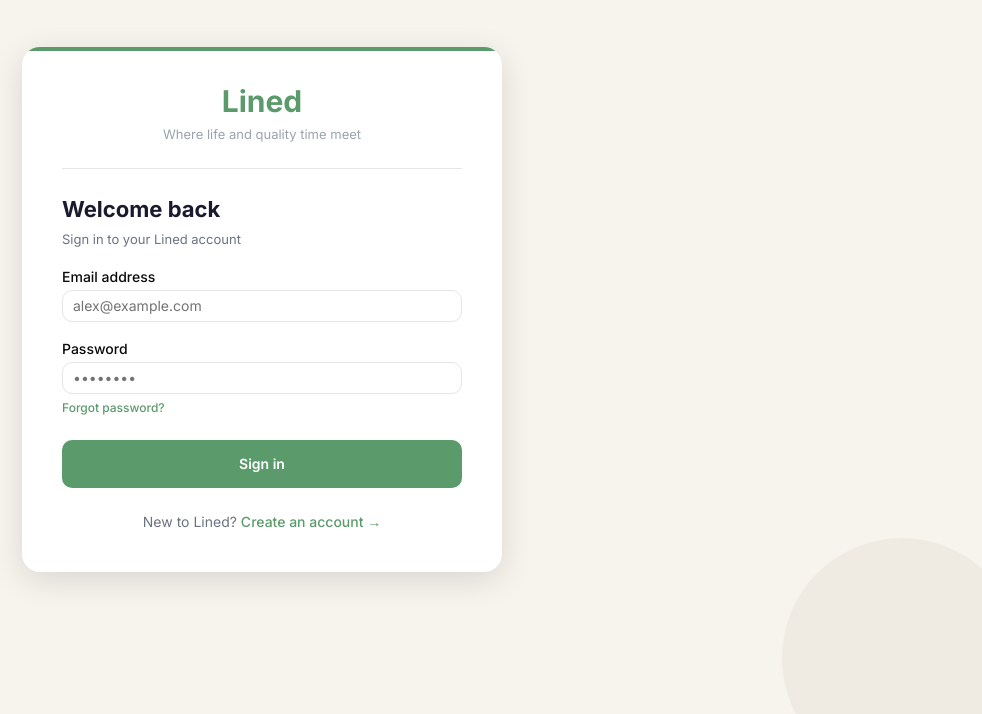
Test: SignInPage › shows an inline error for an unknown identifier
The width and height of the screenshot is (982, 714).
Type "nobody@lined.app" into the field labelled "Email address".
click(262, 306); type("nobody@lined.app")  # box [62,290,462,322]
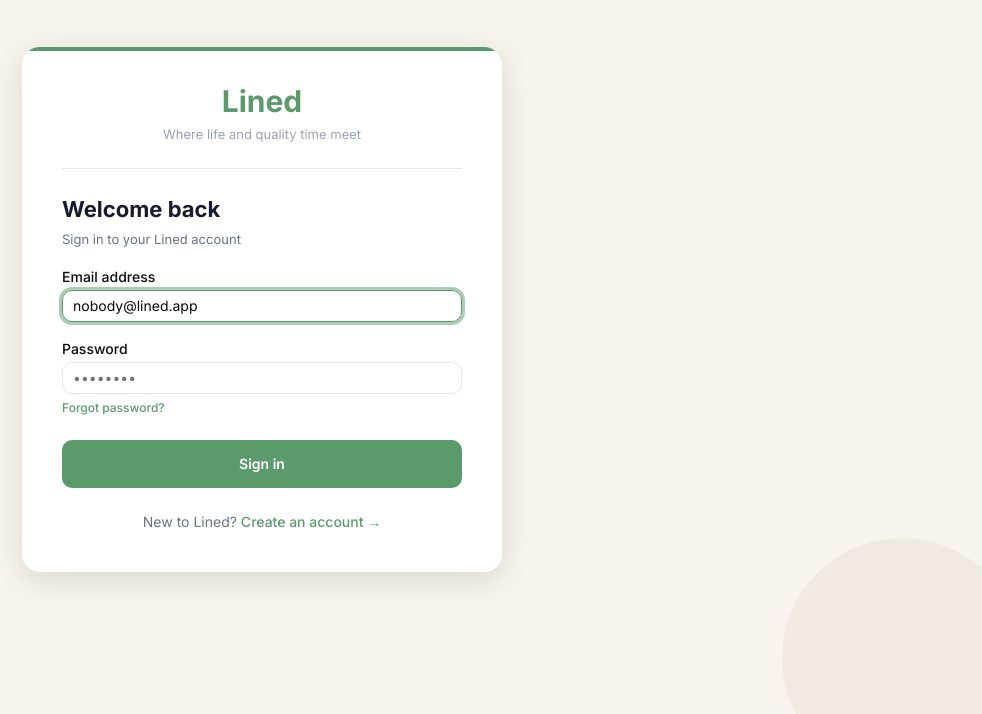
Type "password123" into the password field labelled "Password".
click(262, 378); type("password123")  # box [62,362,462,394]
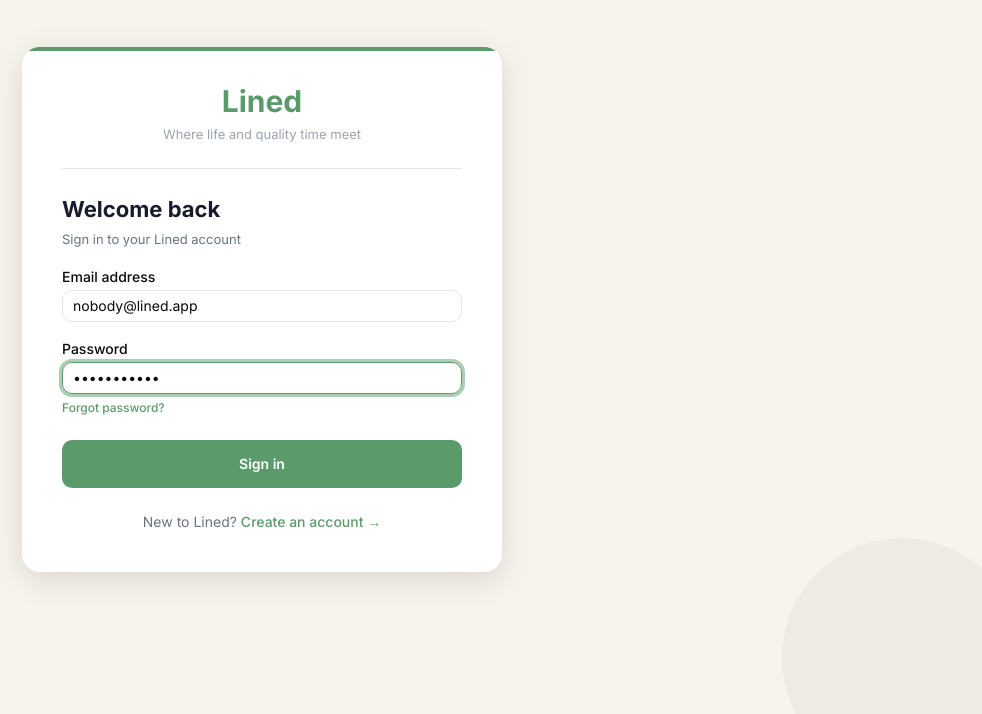
Click the button "Sign in".
click(262, 464)  # box [62,440,462,488]
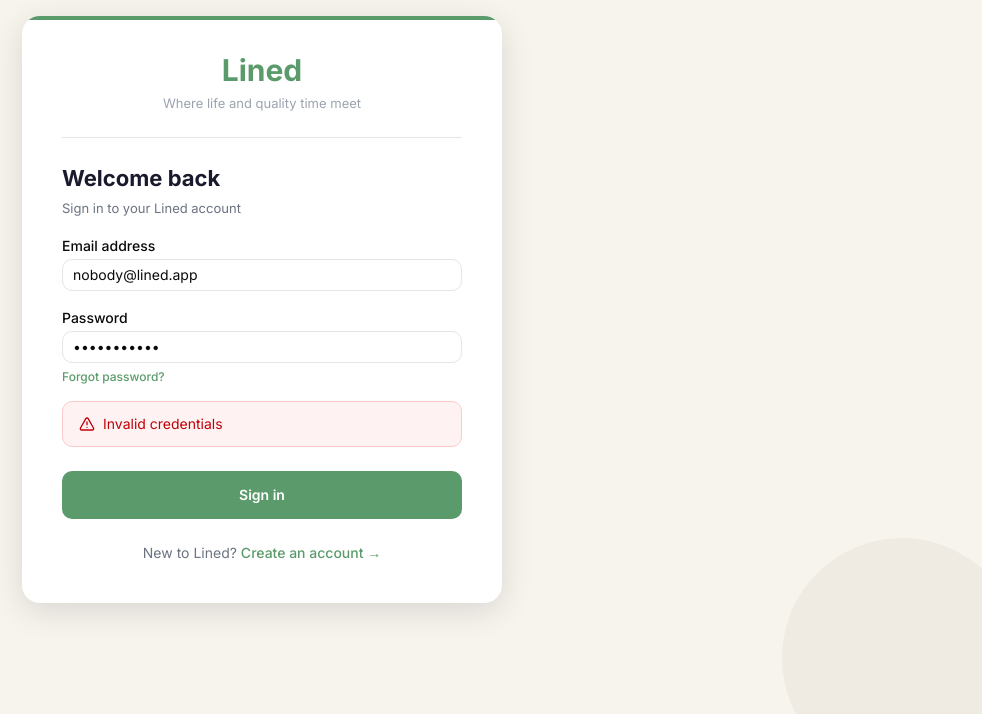
Check: the message reads "Invalid credentials", box [103,414,223,432]
